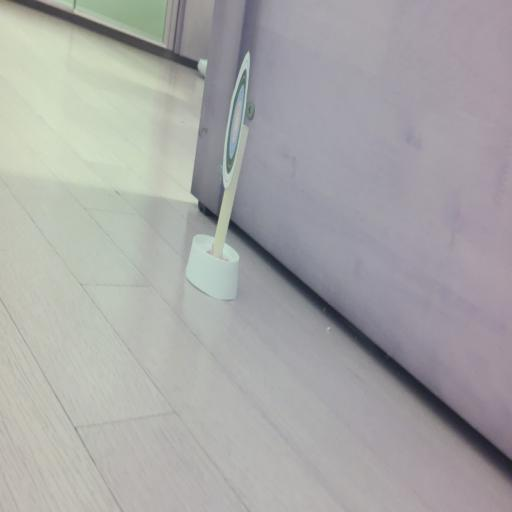target: (223, 52, 250, 189)
